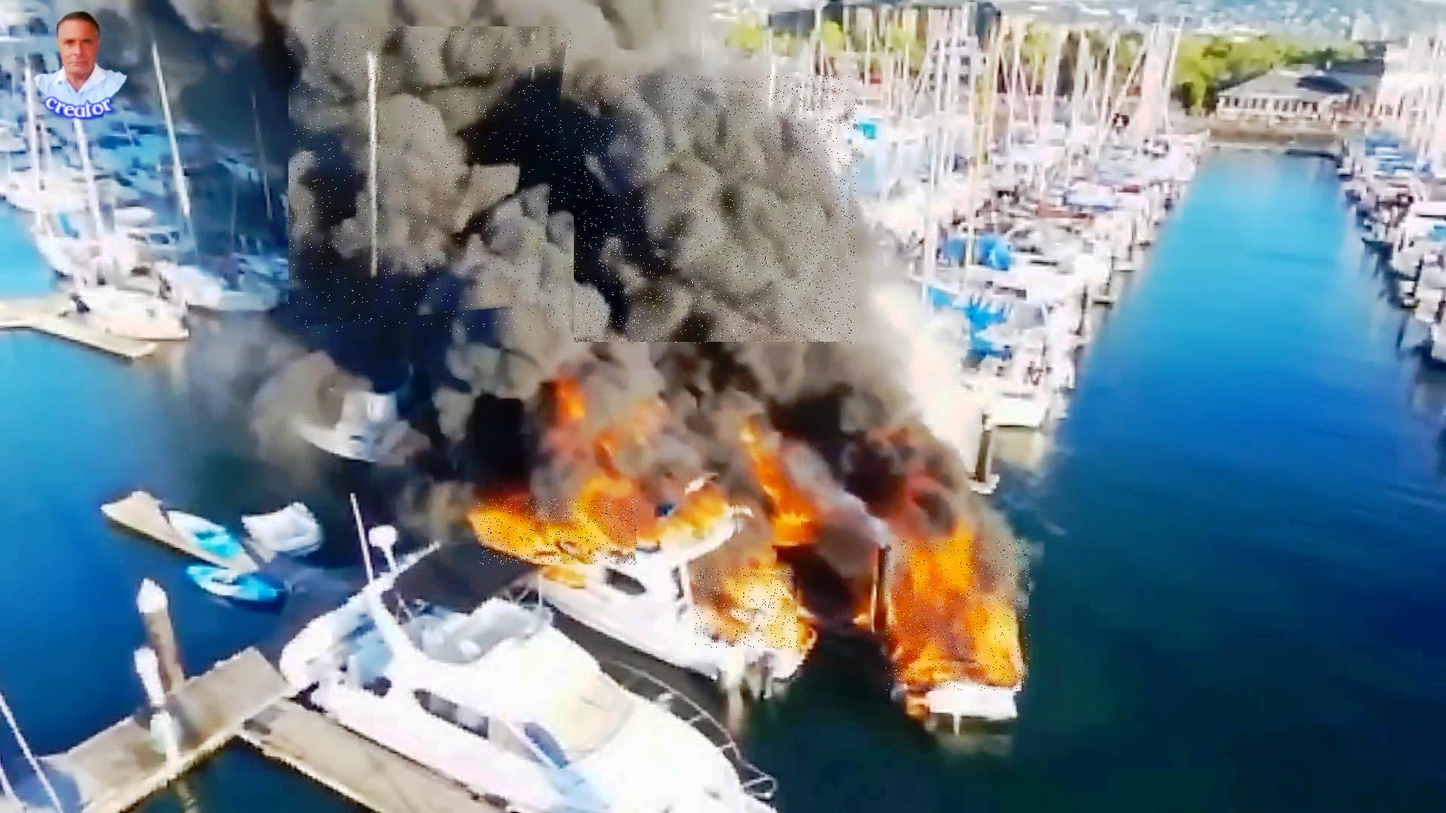fire: (885, 541, 1031, 691), (479, 499, 639, 565), (695, 567, 799, 648), (733, 449, 804, 544)
smoke: (288, 27, 572, 333), (575, 76, 858, 344)
